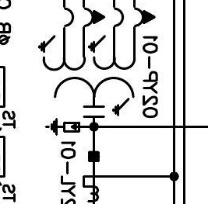115_cvt_1p: (37, 6, 156, 119)
115_la: (45, 118, 81, 136)
